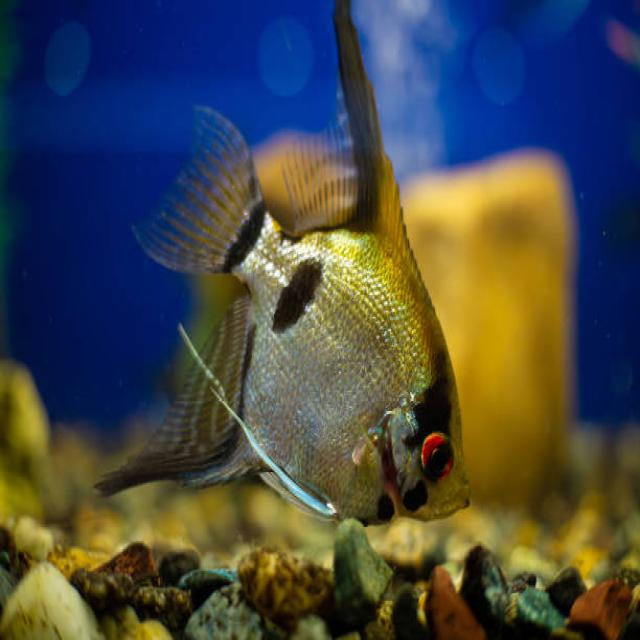AngelFish: (100, 5, 482, 509)
